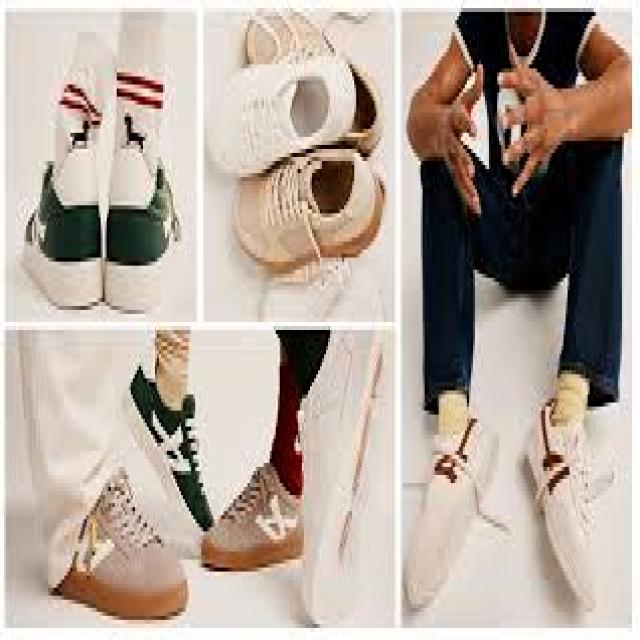foot-wear: (300, 335, 382, 623), (57, 471, 187, 619), (236, 149, 384, 273), (208, 57, 356, 177), (405, 419, 499, 607), (125, 367, 213, 555), (528, 403, 607, 607), (105, 113, 181, 309), (23, 133, 102, 305), (202, 463, 303, 571), (260, 258, 384, 322), (246, 13, 334, 64)
